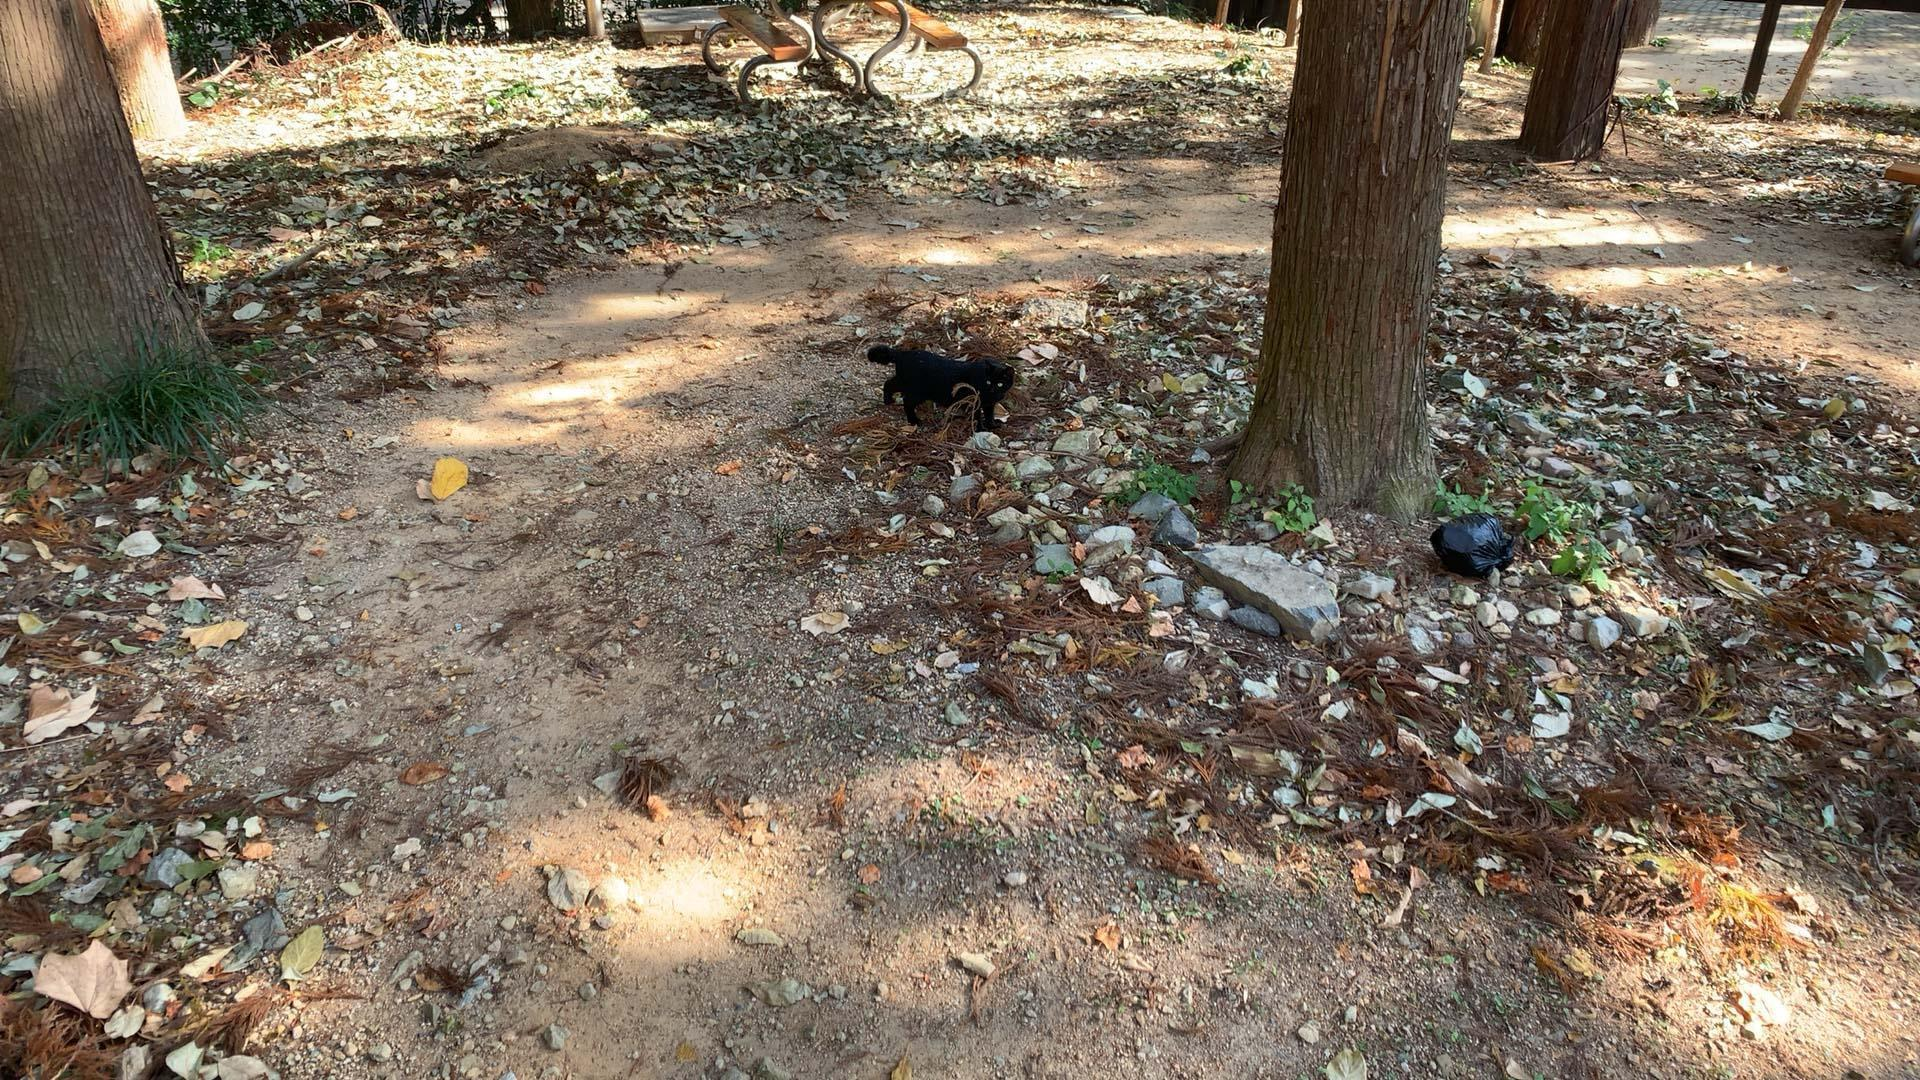white_bag: (1422, 509, 1519, 582)
